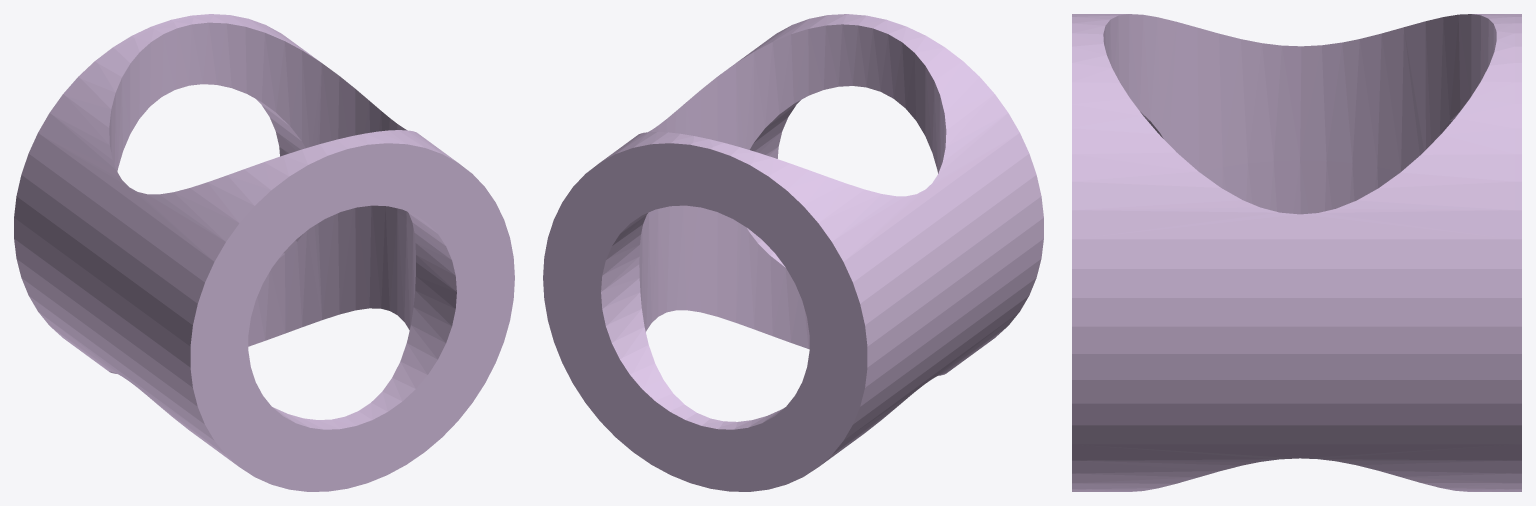
3 views of the same model, side by side, from view 1: azimuth 30°, elevation 25°; view 2: azimuth 150°, elevation 25°; view 3: azimuth 270°, elevation 25° (orthographic). The views are drawn at different scales.
Parts seen in each view (by area): view 1: 5; view 2: 5; view 3: 5.
Part boxes in pixels (x1,y1,x2,y2): 5: (14,14,514,491); 5: (543,14,1043,491); 5: (1072,14,1521,491).
Size of the model in its own units: 1.08 by 1.08 by 1.02.
